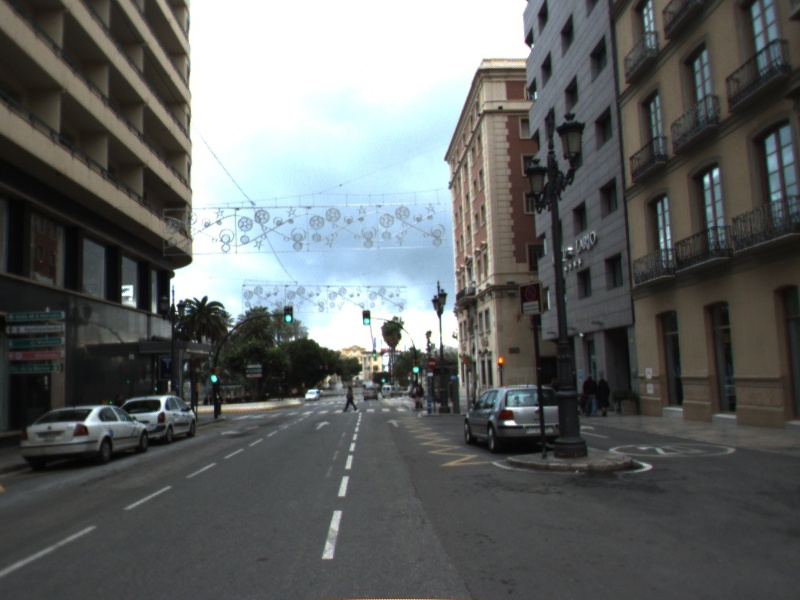STRAIGHT: (312, 419, 334, 432), (384, 417, 404, 429)
STRAIGHT_LEFT: (219, 423, 261, 437)
